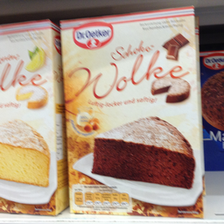cake: (58, 5, 207, 219), (1, 18, 61, 216)
